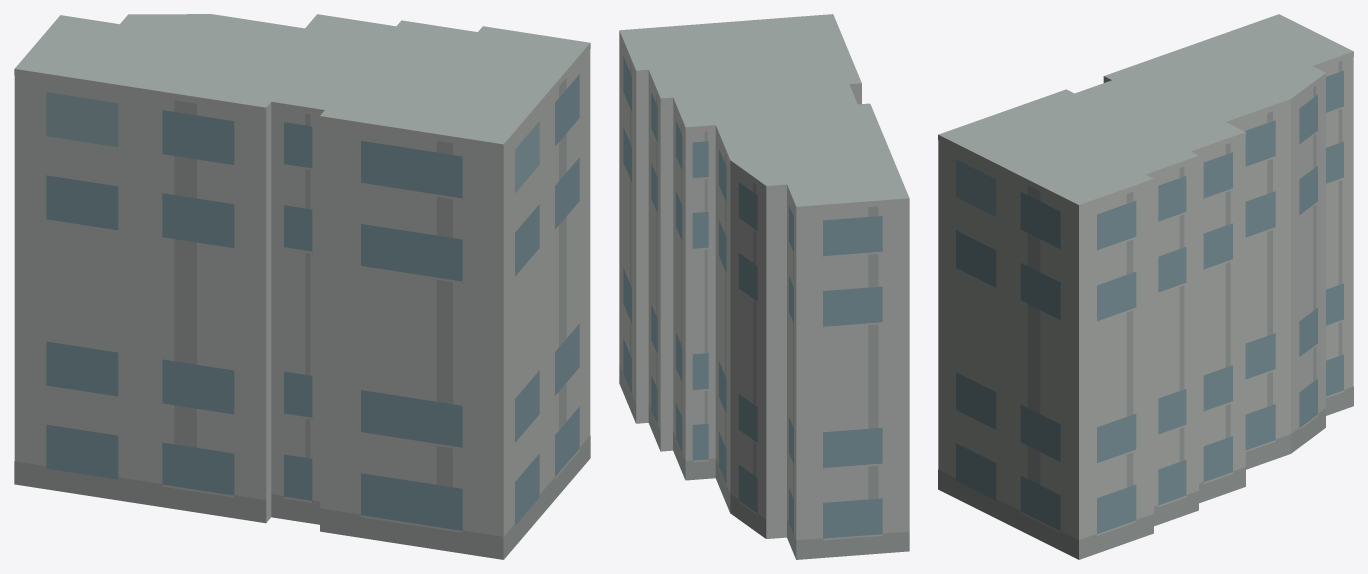
Rendered from survey-upis-32603962.glb.
3 views of the same model, side by side, from view 1: azimuth 30°, elevation 25°; view 2: azimuth 150°, elevation 25°; view 3: azimuth 270°, elevation 25° (orthographic). The views are drawn at different scales.
Parts seen in each view (by area): view 1: survey-upis-32603962.tmp; view 2: survey-upis-32603962.tmp; view 3: survey-upis-32603962.tmp.
Boxes of the visible parts, x1,y1,x2,y2 form: survey-upis-32603962.tmp: (14, 14, 590, 559); survey-upis-32603962.tmp: (619, 14, 909, 559); survey-upis-32603962.tmp: (938, 14, 1353, 559).
Bounding box in the file's own units: 17.63 × 15.25 × 16.2.
